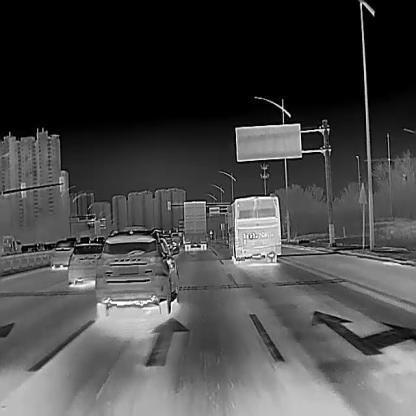car: (94, 228, 179, 317), (224, 192, 281, 265), (68, 243, 104, 285), (183, 200, 206, 251), (51, 238, 74, 268), (78, 234, 91, 244), (170, 231, 179, 244), (93, 233, 105, 242)
